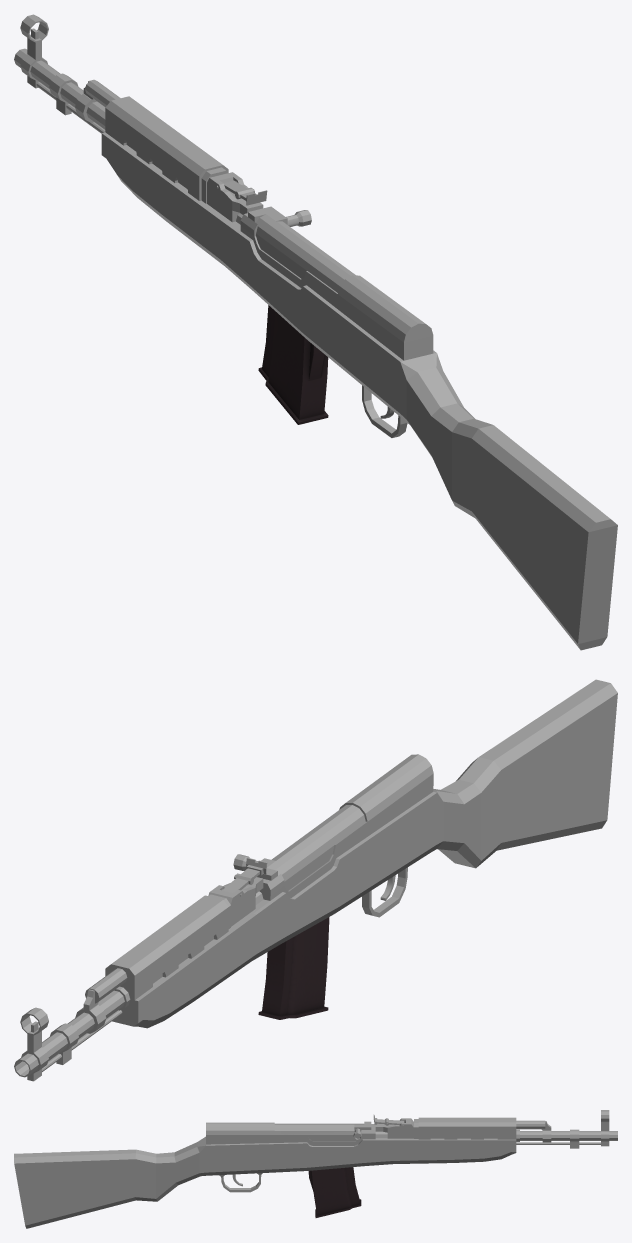
File: SV_Rifle.fbx
The picture shows the model from 3 angles, top to bottom: view 1: azimuth 30°, elevation 25°; view 2: azimuth 150°, elevation 25°; view 3: azimuth 270°, elevation 25°; orthographic projection. The views are drawn at different scales.
Parts seen in each view (by area): view 1: Body, Magazine_short_Bakelite_Plum, Barrel_Short, Slide; view 2: Body, Magazine_short_Bakelite_Plum, Barrel_Short, Slide, Ironsights; view 3: Body, Magazine_short_Bakelite_Plum, Barrel_Short, Slide.
Part boxes in pixels (bbox=[...]): Body: bbox=[101, 96, 617, 650]; Magazine_short_Bakelite_Plum: bbox=[258, 305, 328, 424]; Barrel_Short: bbox=[14, 14, 120, 133]; Slide: bbox=[248, 206, 355, 292]; Body: bbox=[105, 679, 617, 1028]; Magazine_short_Bakelite_Plum: bbox=[258, 917, 329, 1019]; Barrel_Short: bbox=[14, 968, 130, 1081]; Slide: bbox=[233, 805, 365, 890]; Ironsights: bbox=[222, 857, 267, 896]; Body: bbox=[14, 1117, 516, 1228]; Magazine_short_Bakelite_Plum: bbox=[308, 1167, 361, 1217]; Barrel_Short: bbox=[516, 1110, 617, 1148]; Slide: bbox=[274, 1121, 371, 1141].
Size of the model in its own units: 3.67 by 14.57 by 69.05.
